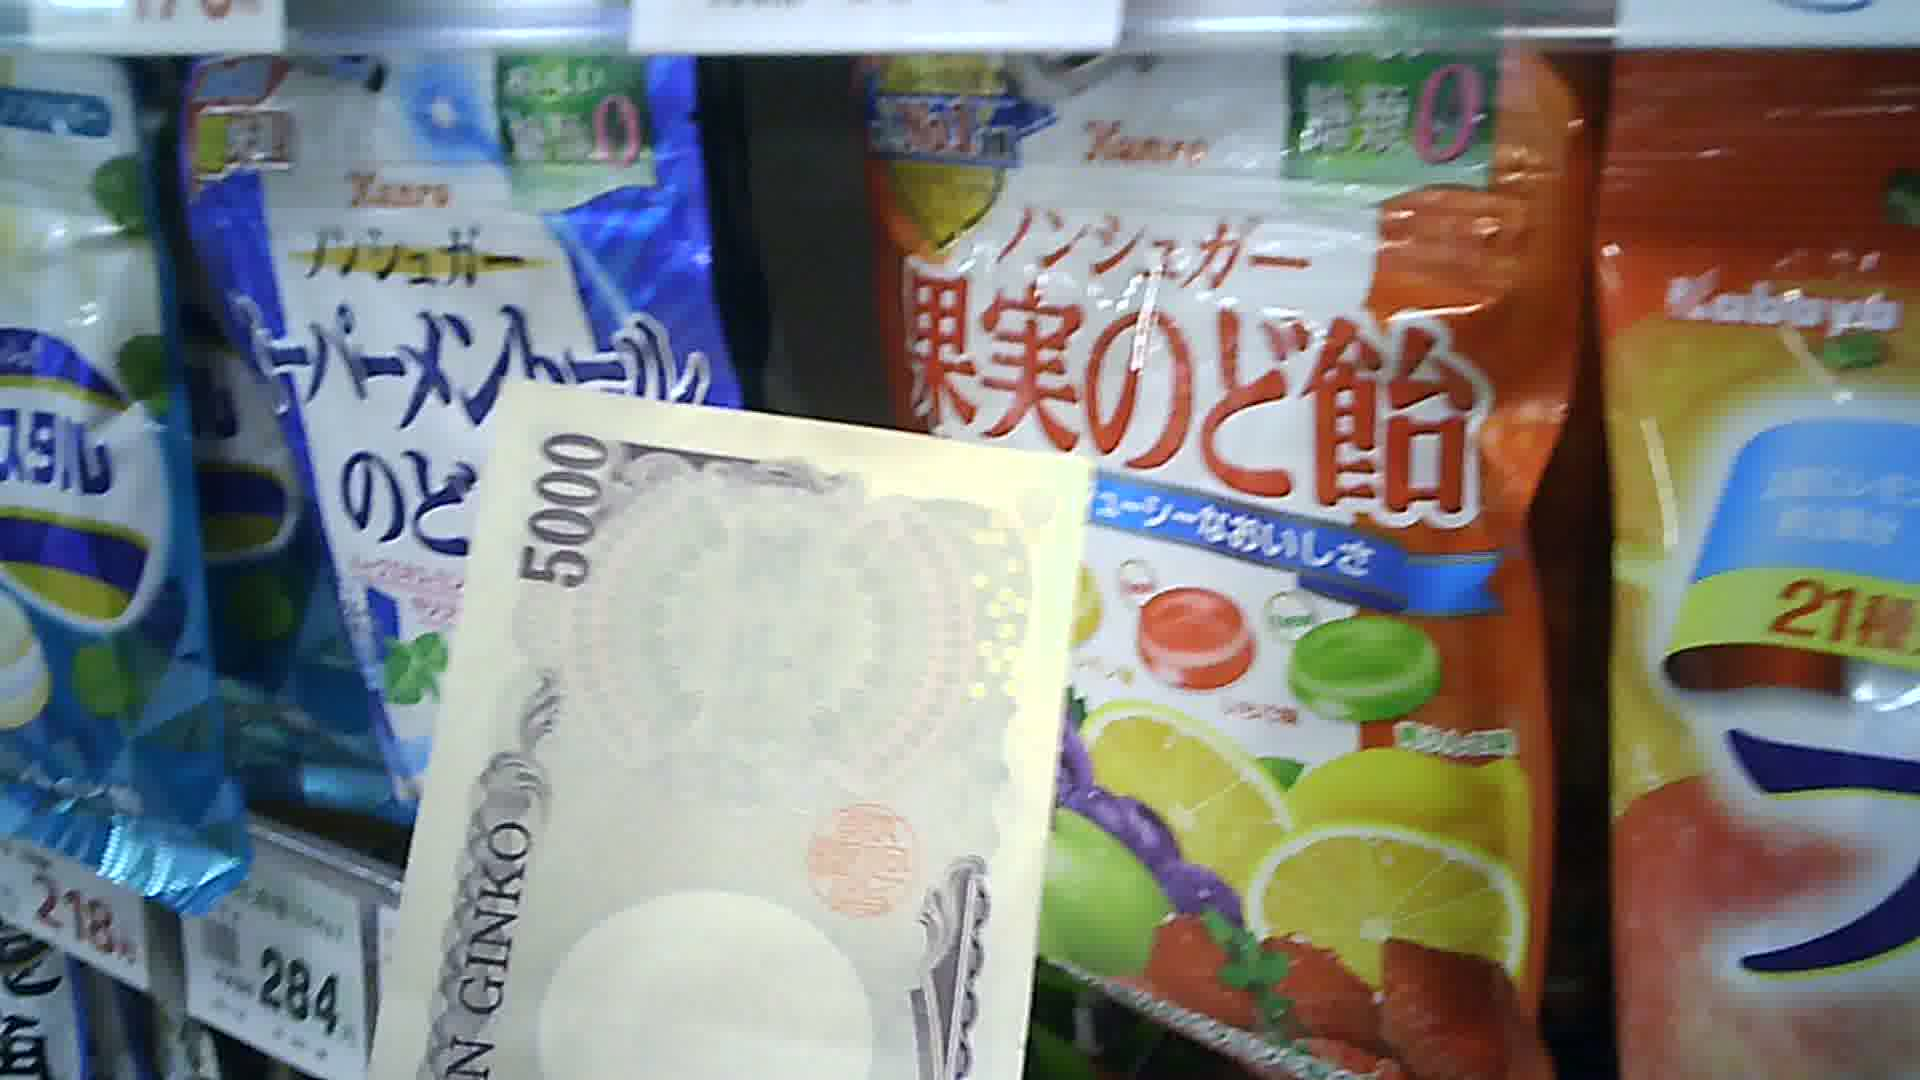5,000 Yen: (376, 378, 1077, 1079)
